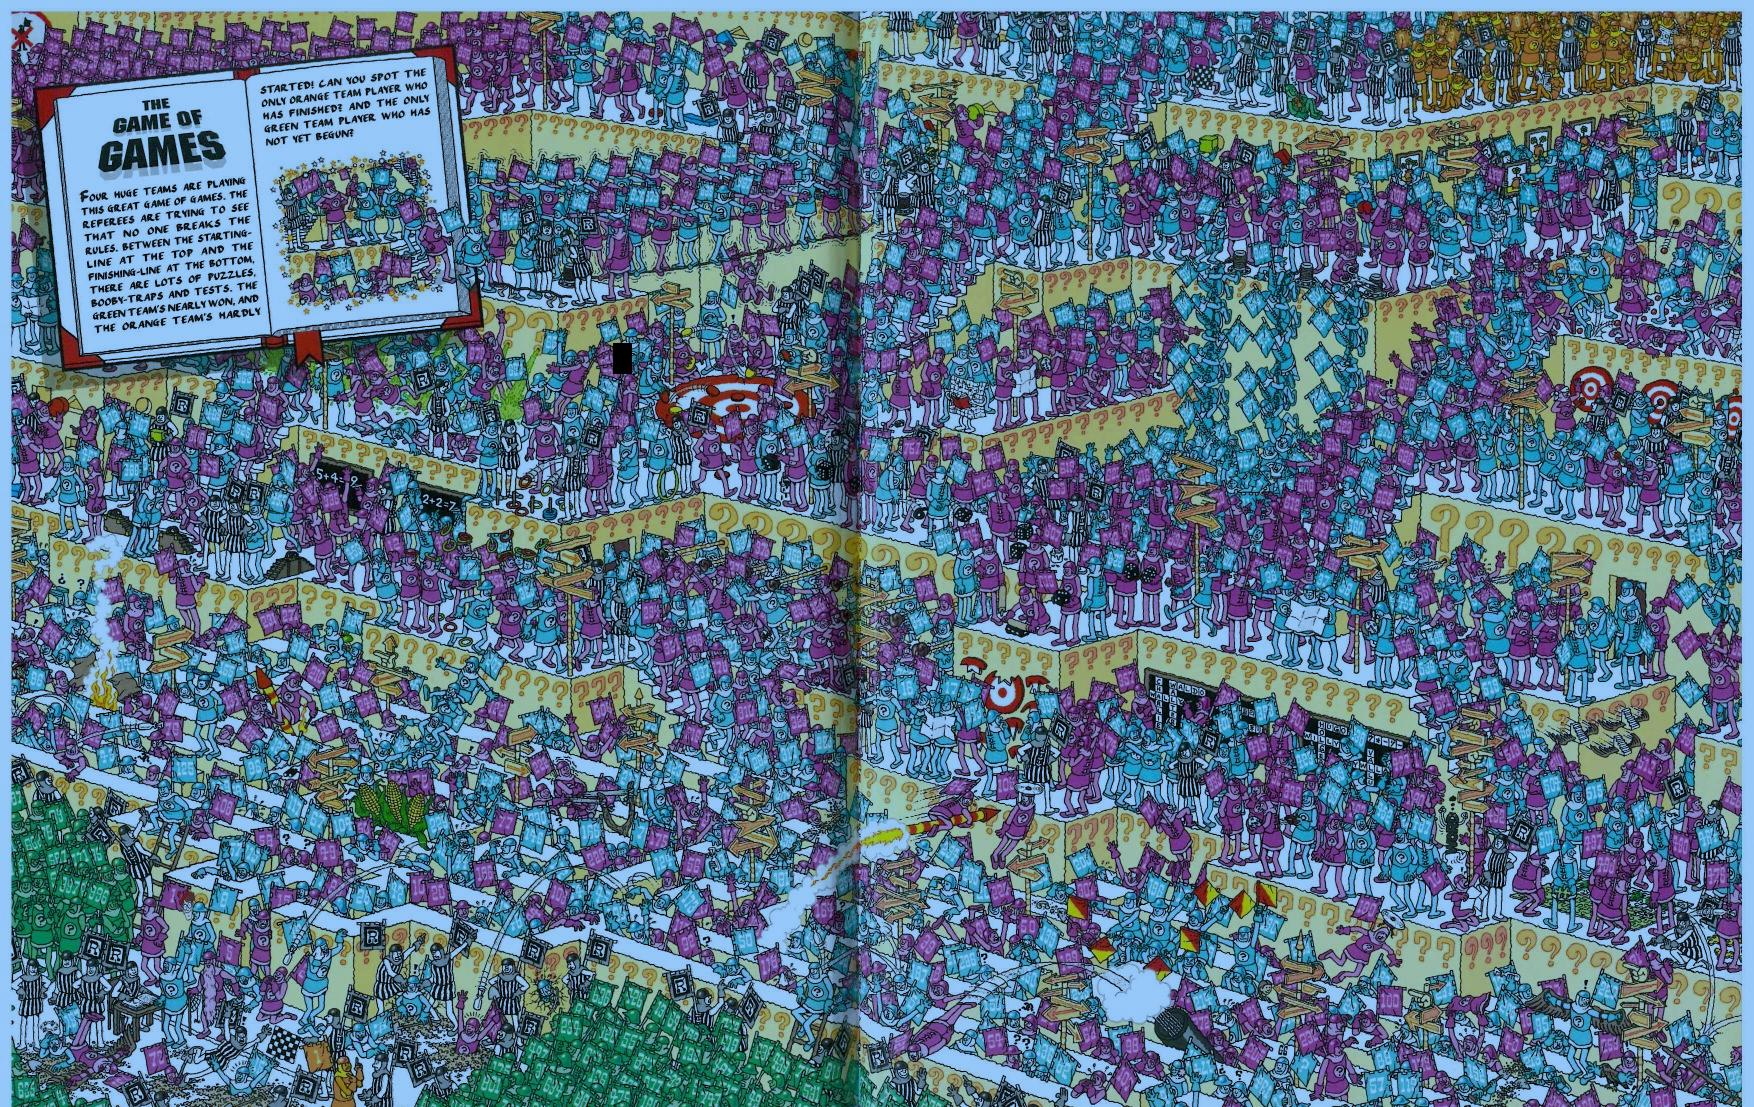waldos: (177, 890, 196, 921)
